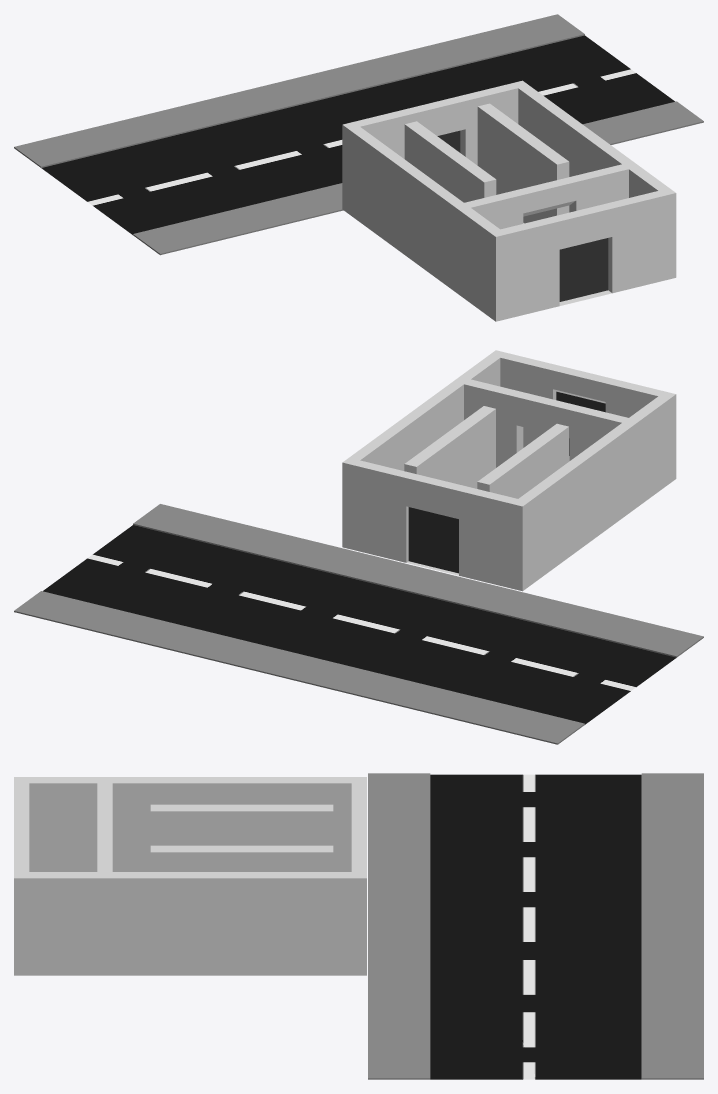
Rendered from world.fbx.
3 renders of one model, top to bottom at view 1: azimuth 30°, elevation 25°; view 2: azimuth 150°, elevation 25°; view 3: azimuth 270°, elevation 25°, orthographic. The views are drawn at different scales.
Visible parts, largest first — view 1: sidewalk, pharmacy, Cube.021, Cube.022, door; view 2: sidewalk, pharmacy, Cube.021, Cube.022, door.001; view 3: sidewalk, pharmacy, Cube.022, Cube.021.
Part boxes in pixels (left/top/right/bottom): sidewalk: left=14, top=14, right=703, bottom=255; pharmacy: left=342, top=80, right=676, bottom=321; Cube.021: left=477, top=103, right=569, bottom=223; Cube.022: left=404, top=121, right=496, bottom=202; door: left=559, top=238, right=608, bottom=301; sidewalk: left=14, top=504, right=703, bottom=744; pharmacy: left=342, top=350, right=676, bottom=591; Cube.021: left=404, top=406, right=495, bottom=488; Cube.022: left=477, top=423, right=568, bottom=498; door.001: left=408, top=507, right=458, bottom=573; sidewalk: left=368, top=773, right=703, bottom=1079; pharmacy: left=14, top=777, right=366, bottom=975; Cube.022: left=150, top=804, right=333, bottom=845; Cube.021: left=150, top=845, right=333, bottom=871.
Size of the model in its own units: 76.46 by 11.64 by 73.1.
